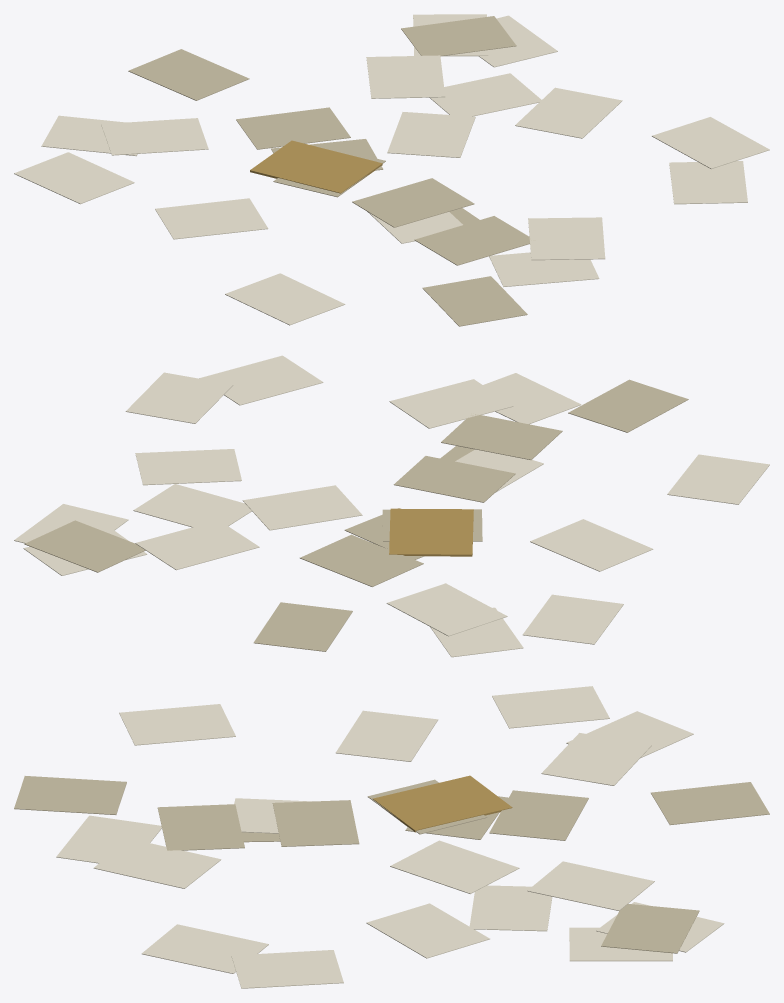
File: SM_80s_PaperScatter_A.glb
The picture shows the model from 3 angles, top to bottom: view 1: azimuth 30°, elevation 25°; view 2: azimuth 150°, elevation 25°; view 3: azimuth 270°, elevation 25°; orthographic projection. The views are drawn at different scales.
Visible parts, largest first — view 1: SM_80s_PaperScatter_A; view 2: SM_80s_PaperScatter_A; view 3: SM_80s_PaperScatter_A.
Part boxes in pixels (x1,y1,x2,y2): SM_80s_PaperScatter_A: (14, 14, 769, 326); SM_80s_PaperScatter_A: (14, 355, 769, 657); SM_80s_PaperScatter_A: (14, 686, 769, 988).
Size of the model in its own units: 2.58 by 0.0114 by 2.71.
